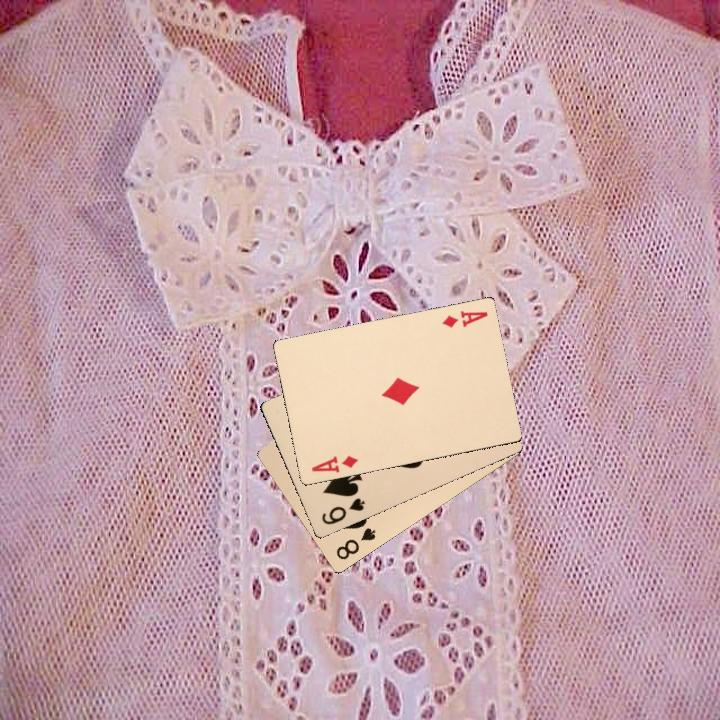6s: (317, 494, 368, 527)
8s: (332, 523, 378, 563)
Ad: (307, 451, 359, 475), (438, 306, 490, 330)
